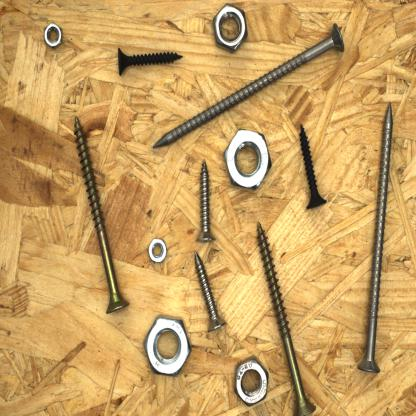screw: (149, 19, 348, 151), (255, 219, 317, 415), (73, 114, 131, 317), (354, 100, 395, 376), (192, 247, 228, 335), (115, 44, 184, 76), (196, 158, 217, 245)
